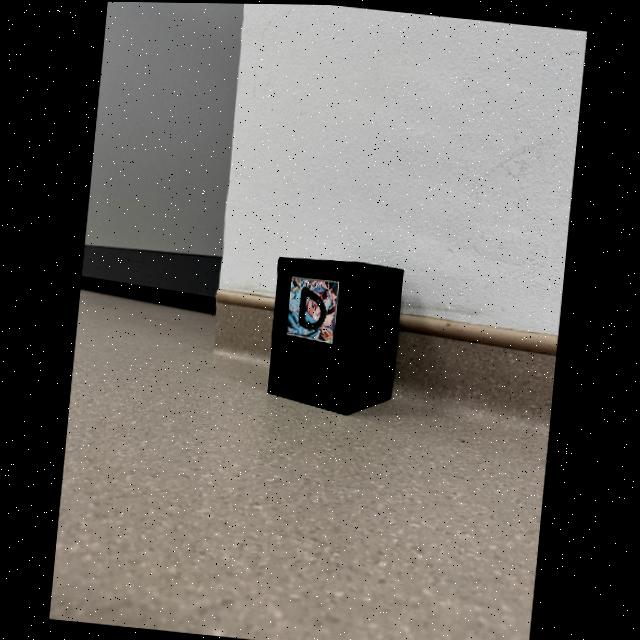D: (299, 287, 326, 329)
